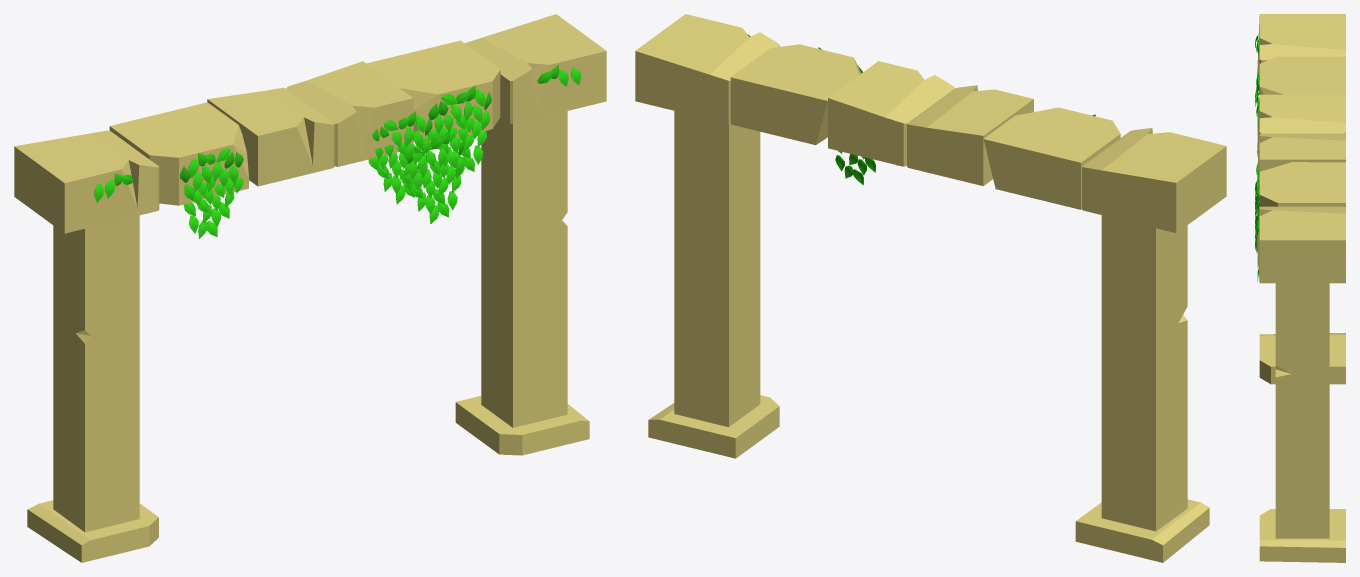
File: door_1.fbx
The picture shows the model from 3 angles, left to right: view 1: azimuth 30°, elevation 25°; view 2: azimuth 150°, elevation 25°; view 3: azimuth 270°, elevation 25°; orthographic projection. The views are drawn at different scales.
Visible parts, largest first — view 1: door_1; view 2: door_1; view 3: door_1.
Boxes of the visible parts, x1,y1,x2,y2 form: door_1: (14,14,606,562); door_1: (635,14,1226,562); door_1: (1255,14,1345,562).
Bounding box in the file's own units: 921 × 623 × 156.
